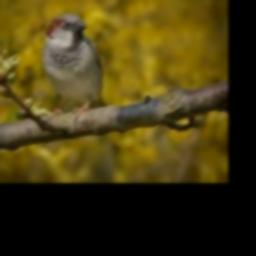Sparrow: (43, 13, 109, 115)
